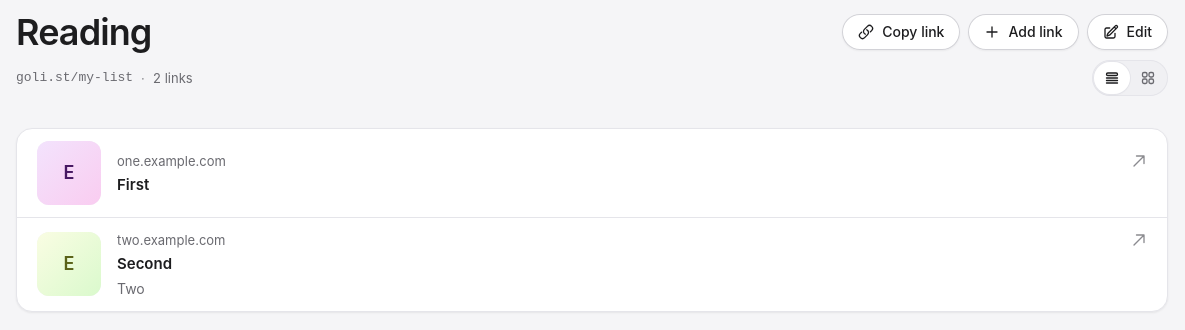
Test: edit mode as a draft › leaves without asking when nothing changed
Click the button "Edit".
click(1127, 32)  # box x1=1087 y1=14 x2=1168 y2=50
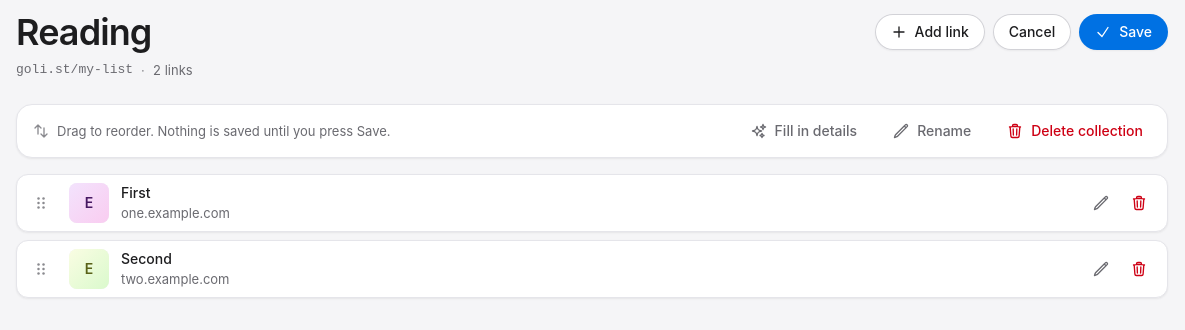
Click the button "Cancel".
click(1032, 32)  # box x1=993 y1=14 x2=1071 y2=50
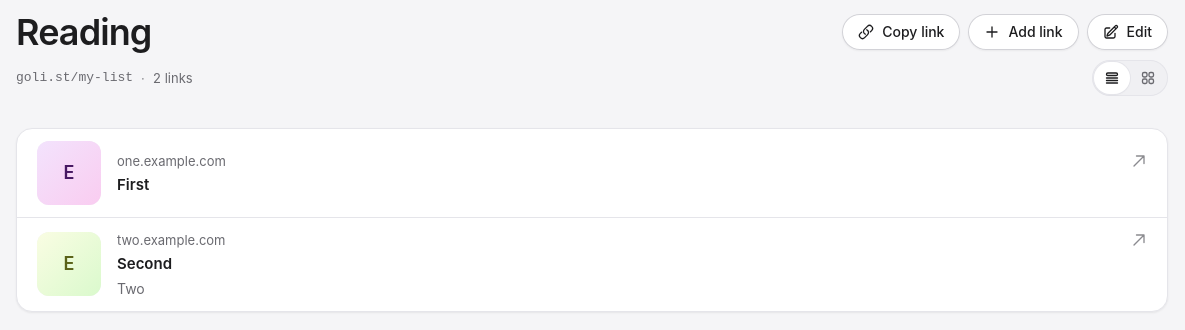
Expected: the button "Edit" is shown, x1=1087 y1=14 x2=1168 y2=50
